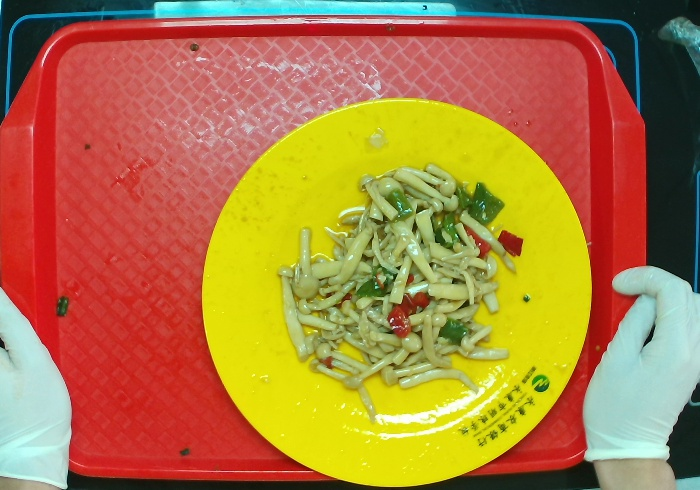YKMZ-Huang_Se_Mian_Pan: (203, 111, 595, 490)
